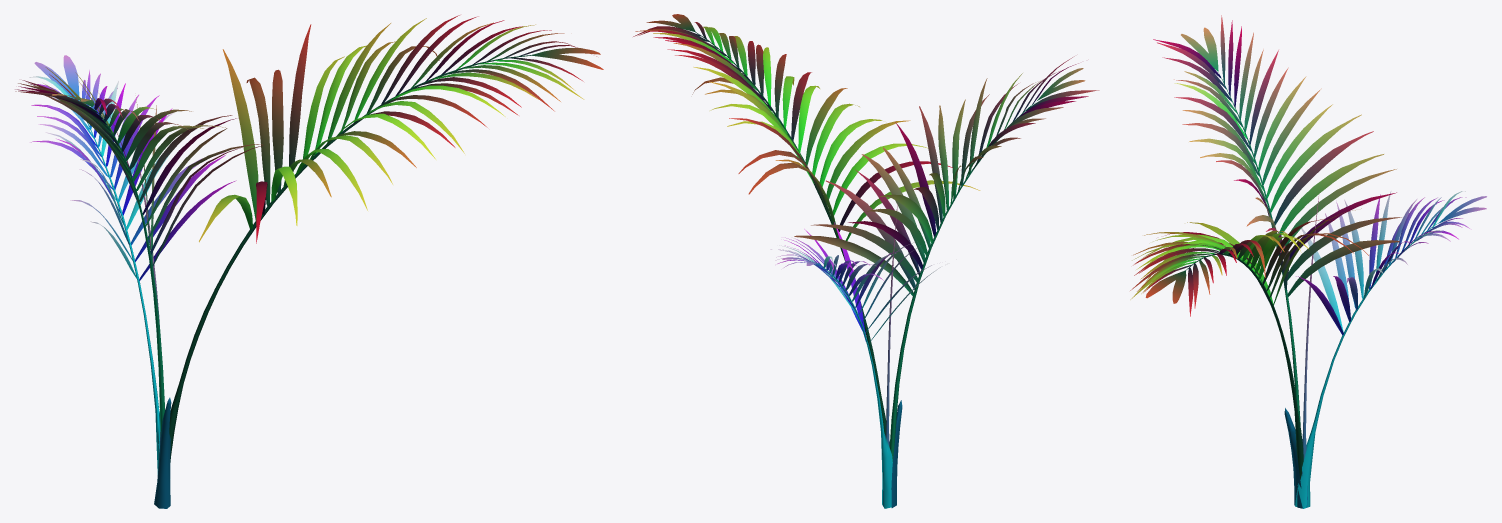
The model's file is ukgkcilia_VarA_LOD1.fbx.
The picture shows the model from 3 angles, left to right: view 1: azimuth 30°, elevation 25°; view 2: azimuth 150°, elevation 25°; view 3: azimuth 270°, elevation 25°; orthographic projection. The views are drawn at different scales.
Parts seen in each view (by area): view 1: _e6us_VarA_LOD2; view 2: _e6us_VarA_LOD2; view 3: _e6us_VarA_LOD2.
Part boxes in pixels (x1,y1,x2,y2): _e6us_VarA_LOD2: (15, 15, 603, 508); _e6us_VarA_LOD2: (633, 14, 1099, 508); _e6us_VarA_LOD2: (1130, 15, 1486, 508).
Bounding box in the file's own units: 174 × 147 × 116.
